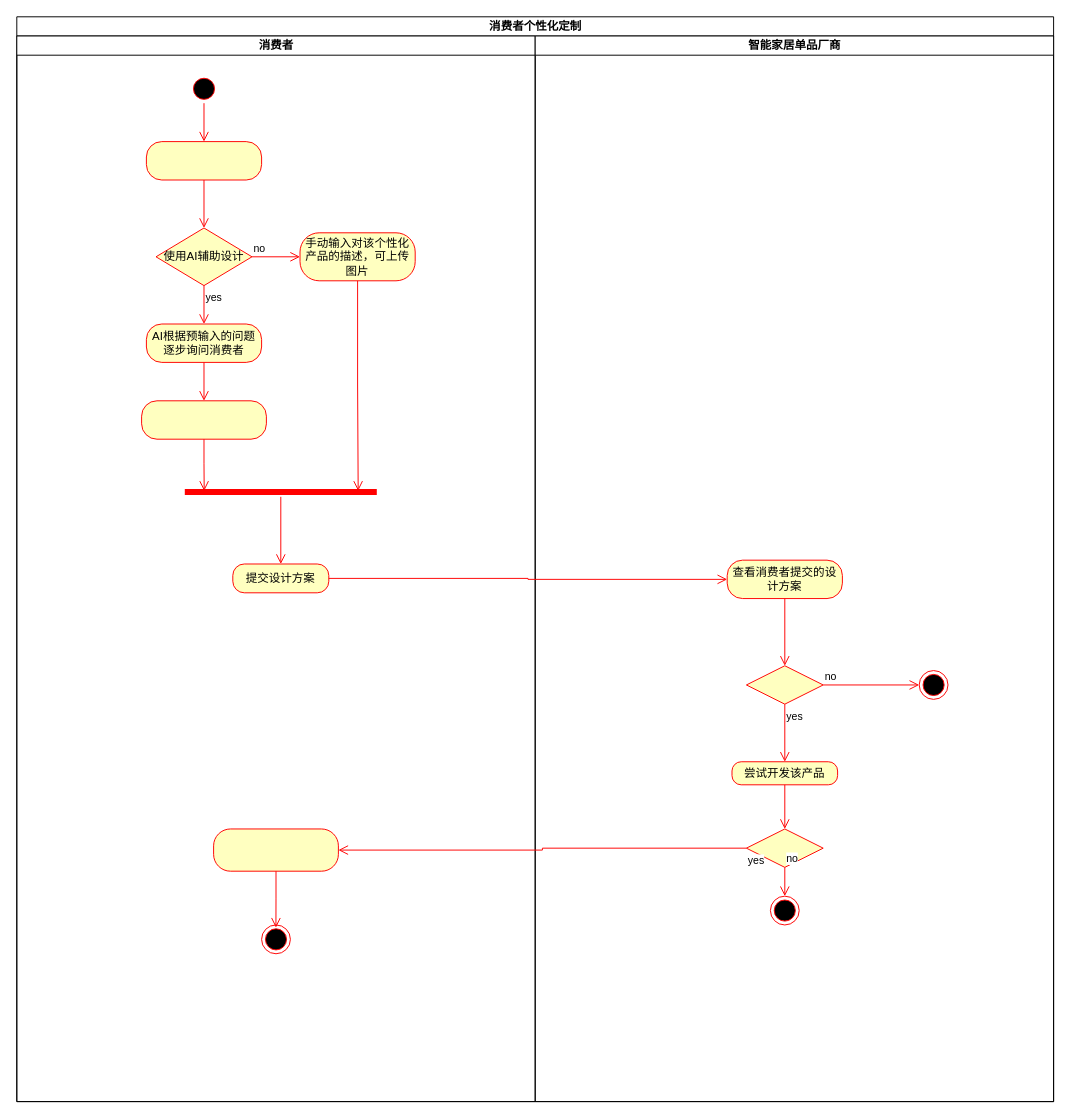
The diagram is 1070 pixels wide and 1118 high, and some of its shapes have lost their labels. The centre of each missing label's shape, as x and y in pixels:
成功开发: (784,847)
打开信息收集页面: (203,160)
根据回答描述AI生成图片，也可上传本地图片: (203,419)
消费者获得奖励（如：免费获得该产品一件）: (275,849)
采纳: (784,684)
